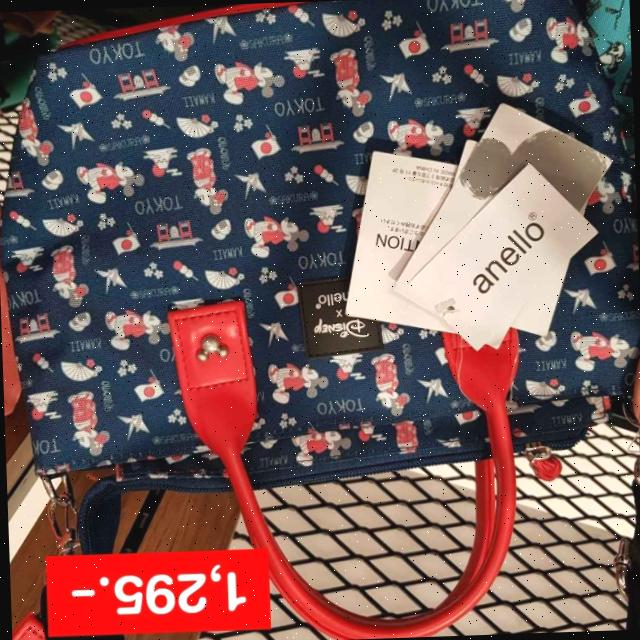Handbag: (14, 0, 640, 516)
